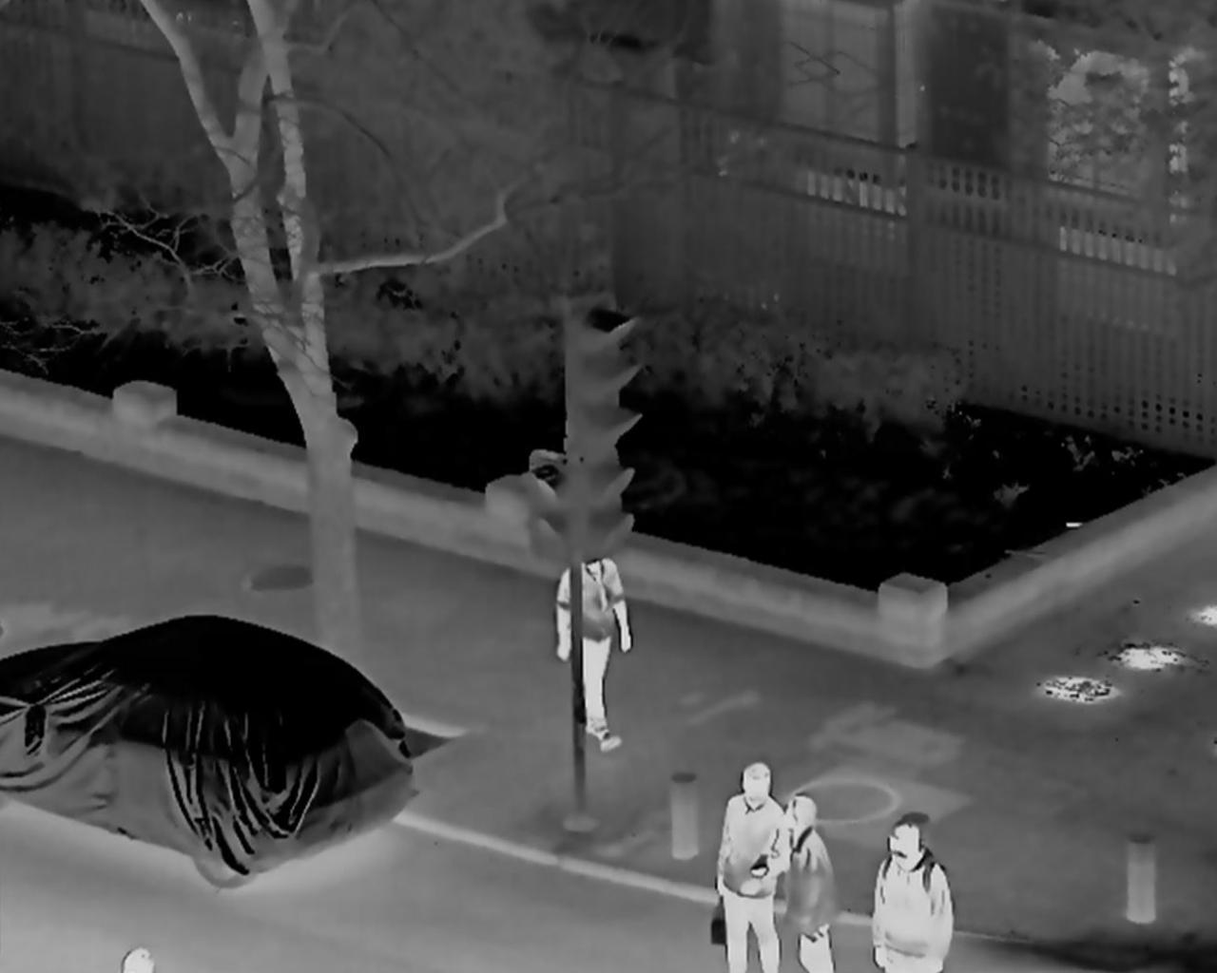person: (554, 535, 638, 749), (713, 760, 779, 973), (865, 817, 944, 973), (776, 793, 843, 973)
